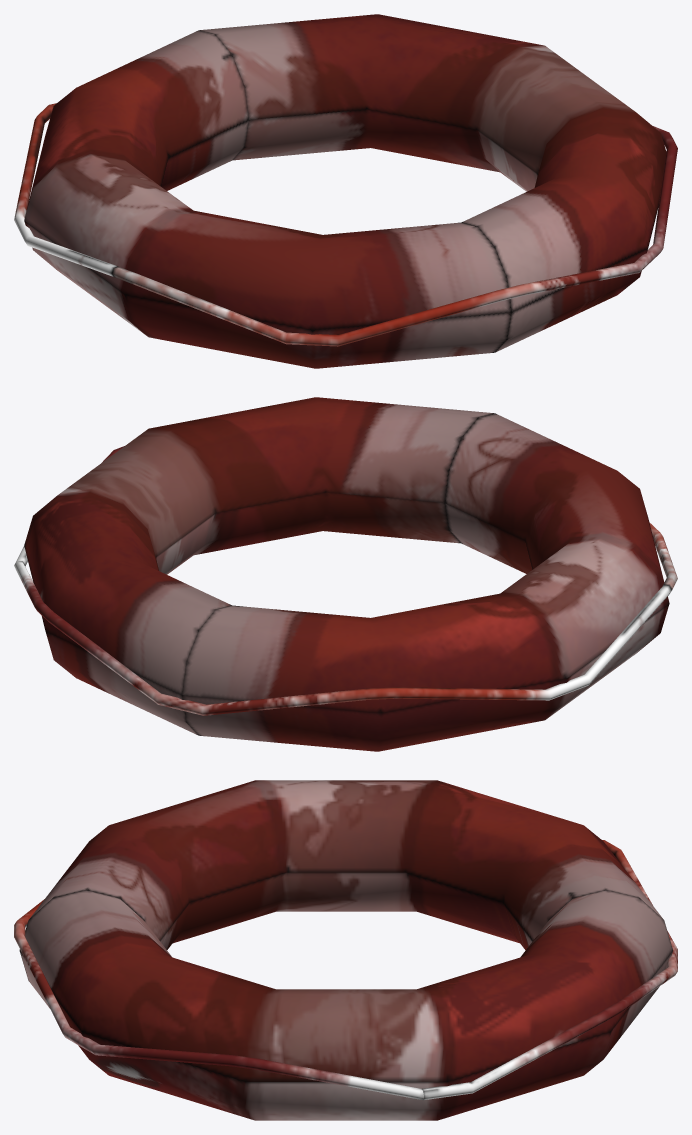
Rendered from LifeBuoy_Asset.fbx.
The picture shows the model from 3 angles, top to bottom: view 1: azimuth 30°, elevation 25°; view 2: azimuth 150°, elevation 25°; view 3: azimuth 270°, elevation 25°; orthographic projection.
Parts seen in each view (by area): view 1: LifeBuoy; view 2: LifeBuoy; view 3: LifeBuoy.
Boxes of the visible parts, x1=… form: LifeBuoy: x1=14, y1=14, x2=677, y2=368; LifeBuoy: x1=14, y1=397, x2=677, y2=751; LifeBuoy: x1=14, y1=780, x2=677, y2=1120.
Bounding box in the file's own units: 75.37 × 77.37 × 15.53.
